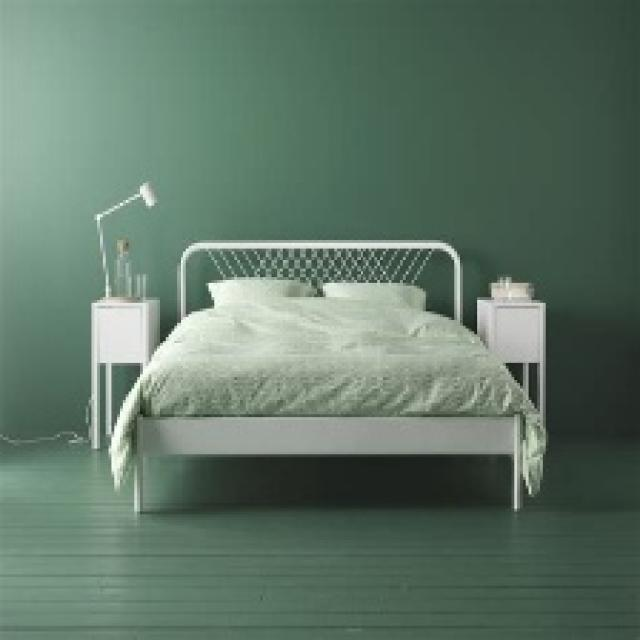Bed: (109, 237, 546, 514)
